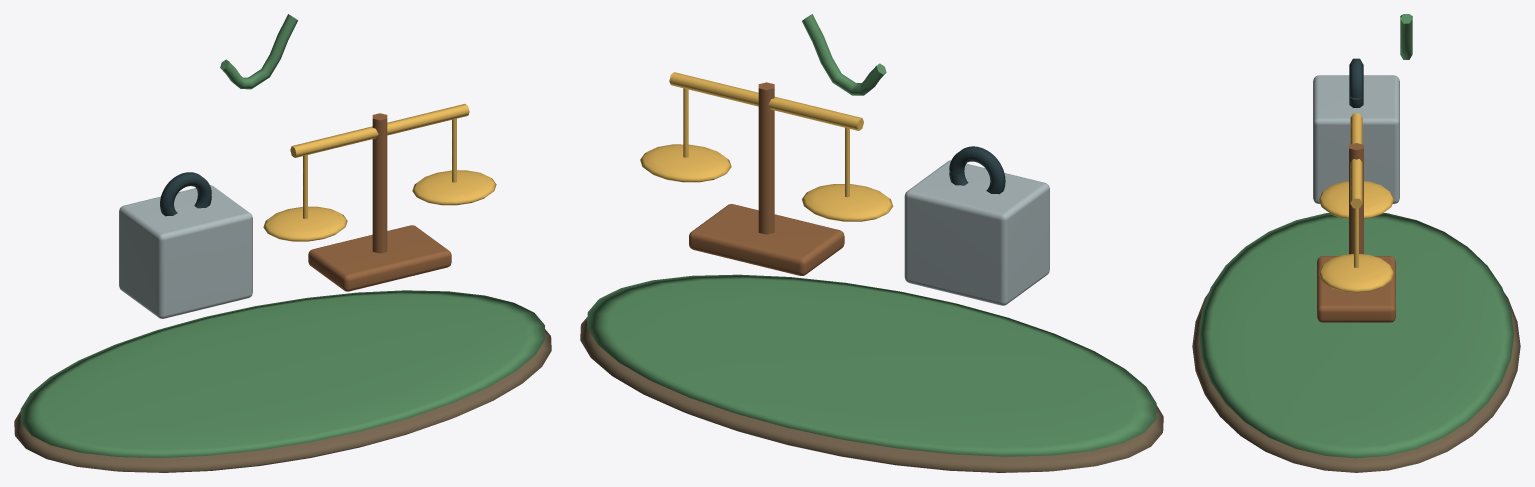
The model's file is complete-third-essential-measure.glb.
3 renders of one model, left to right at view 1: azimuth 30°, elevation 25°; view 2: azimuth 150°, elevation 25°; view 3: azimuth 270°, elevation 25°, orthographic. The views are drawn at different scales.
Parts seen in each view (by area): view 1: complete-third-essential-measure_surface_01, complete-third-essential-measure_surface_02, complete-third-essential-measure_surface_00, complete-third-essential-measure_surface_04, complete-third-essential-measure_surface_05, complete-third-essential-measure_surface_03; view 2: complete-third-essential-measure_surface_01, complete-third-essential-measure_surface_02, complete-third-essential-measure_surface_00, complete-third-essential-measure_surface_04, complete-third-essential-measure_surface_05, complete-third-essential-measure_surface_03; view 3: complete-third-essential-measure_surface_01, complete-third-essential-measure_surface_02, complete-third-essential-measure_surface_00, complete-third-essential-measure_surface_05, complete-third-essential-measure_surface_04, complete-third-essential-measure_surface_03.
Boxes of the visible parts, box(x1,y1,x2,y2) form: complete-third-essential-measure_surface_01: box(20, 14, 545, 457); complete-third-essential-measure_surface_02: box(119, 185, 252, 318); complete-third-essential-measure_surface_00: box(14, 329, 551, 472); complete-third-essential-measure_surface_04: box(308, 113, 451, 291); complete-third-essential-measure_surface_05: box(263, 104, 496, 241); complete-third-essential-measure_surface_03: box(160, 172, 211, 216); complete-third-essential-measure_surface_01: box(587, 14, 1156, 456); complete-third-essential-measure_surface_02: box(904, 160, 1049, 305); complete-third-essential-measure_surface_00: box(580, 317, 1163, 472); complete-third-essential-measure_surface_04: box(689, 82, 844, 275); complete-third-essential-measure_surface_05: box(640, 72, 893, 221); complete-third-essential-measure_surface_03: box(949, 146, 1005, 194); complete-third-essential-measure_surface_01: box(1199, 14, 1513, 458); complete-third-essential-measure_surface_02: box(1313, 75, 1399, 203); complete-third-essential-measure_surface_00: box(1192, 292, 1520, 472); complete-third-essential-measure_surface_05: box(1318, 113, 1394, 292); complete-third-essential-measure_surface_04: box(1317, 143, 1395, 322); complete-third-essential-measure_surface_03: box(1349, 58, 1363, 107).
Size of the model in its own units: 4.56 by 3.05 by 2.5.
